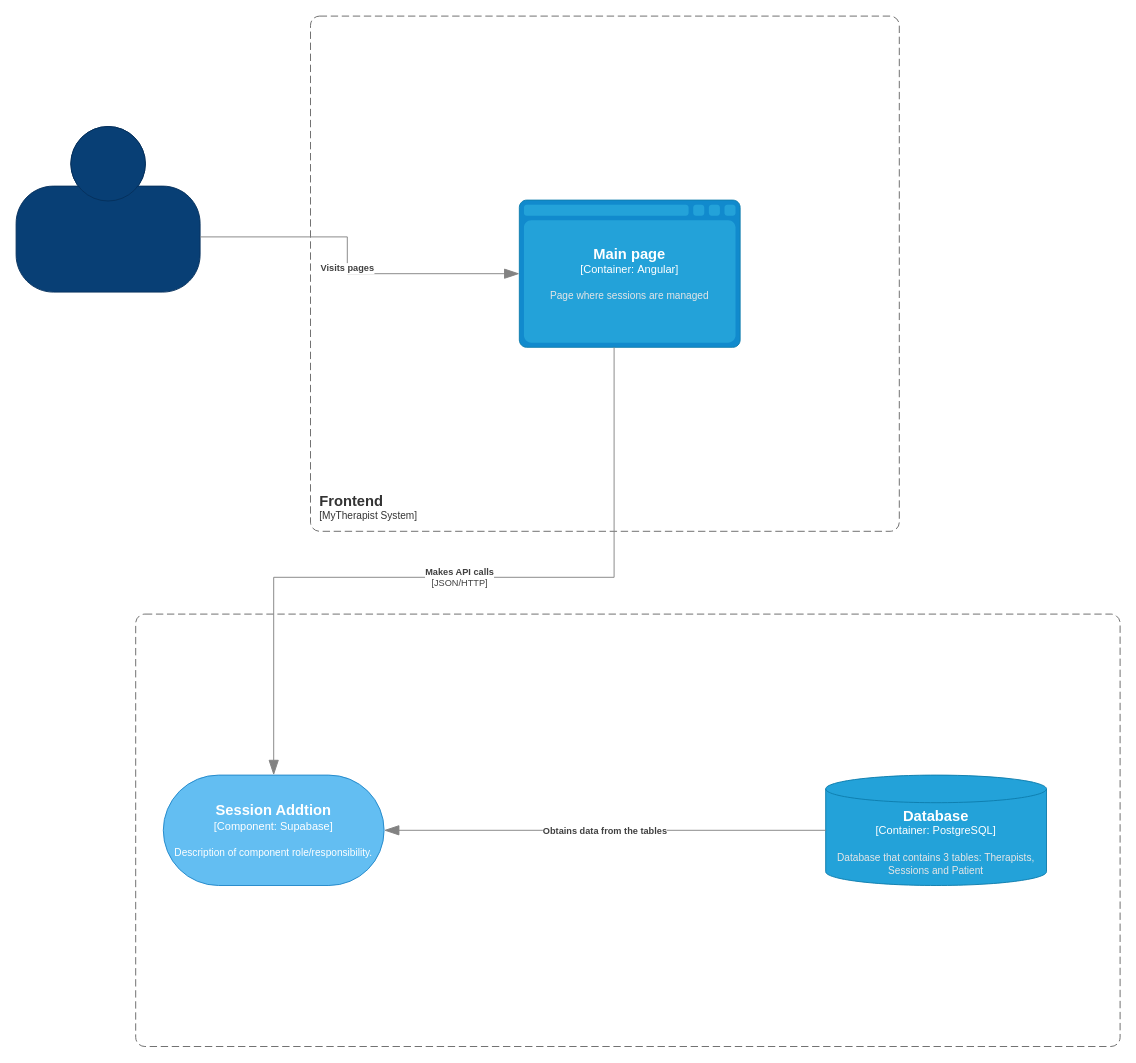
Some shapes in this 1136 by 1063 pixel diagram are drawn without their labels. Each missing label, with the box of its shape:
MyTherapist Backend and Database [Backend]: (135, 613, 1120, 1046)
Therapist [Person] The main costumer of the product: (15, 126, 200, 292)
